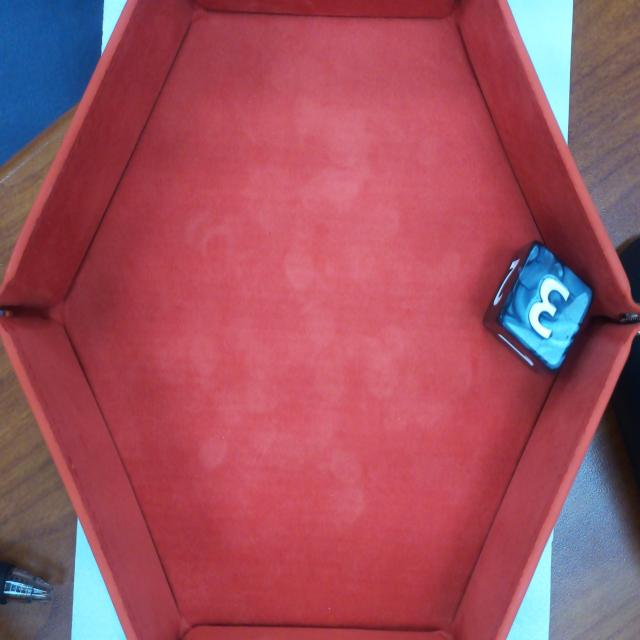dice: (495, 235, 598, 377)
